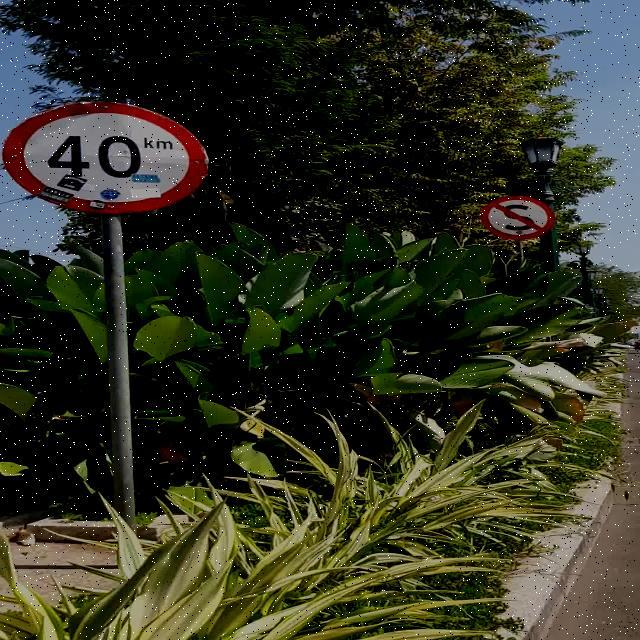Kecepatan Maks. 40 km: (1, 100, 212, 214)
